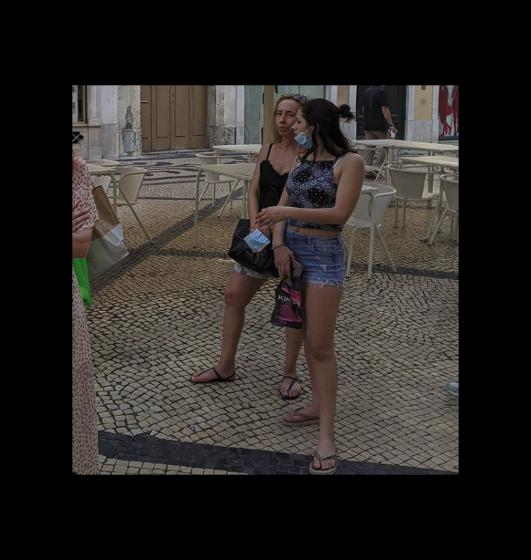mask_weared_incorrect: (294, 115, 310, 146)
without_mask: (270, 106, 295, 134)
